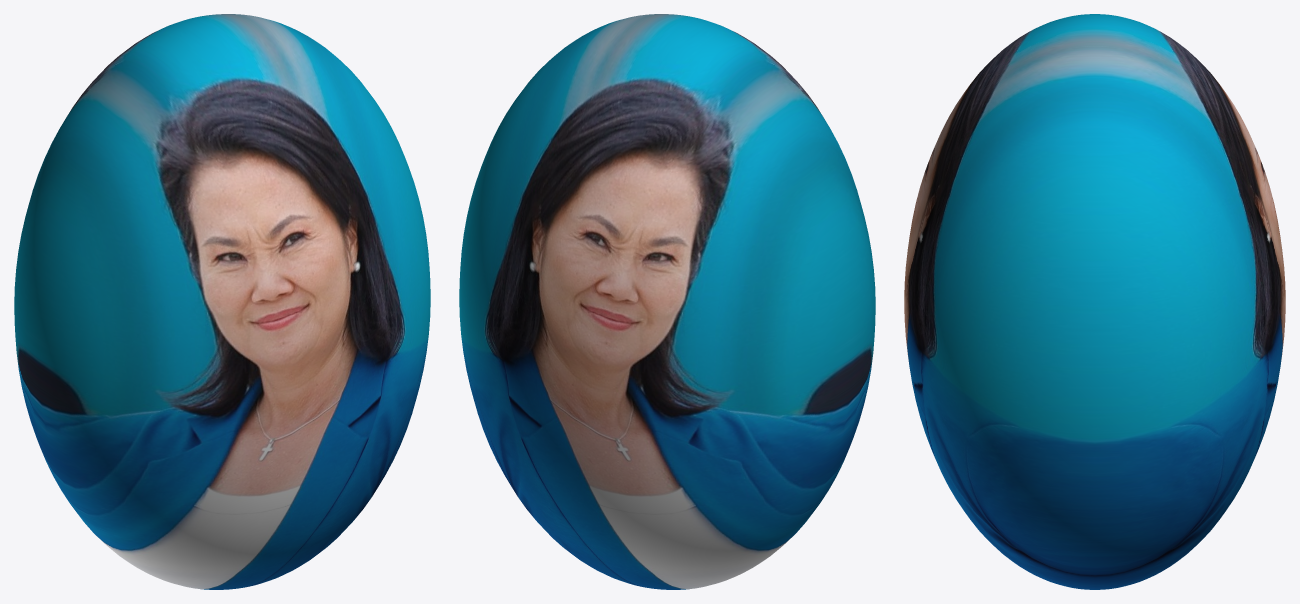
3 renders of one model, left to right at view 1: azimuth 30°, elevation 25°; view 2: azimuth 150°, elevation 25°; view 3: azimuth 270°, elevation 25°, orthographic.
Parts seen in each view (by area): view 1: head; view 2: head; view 3: head.
Boxes of the visible parts, <box> form: head: <box>14,14,430,589</box>; head: <box>459,14,875,589</box>; head: <box>904,14,1285,589</box>.
Bounding box in the file's own units: 1.4 × 2 × 1.26.
1 material, 1 textured.
